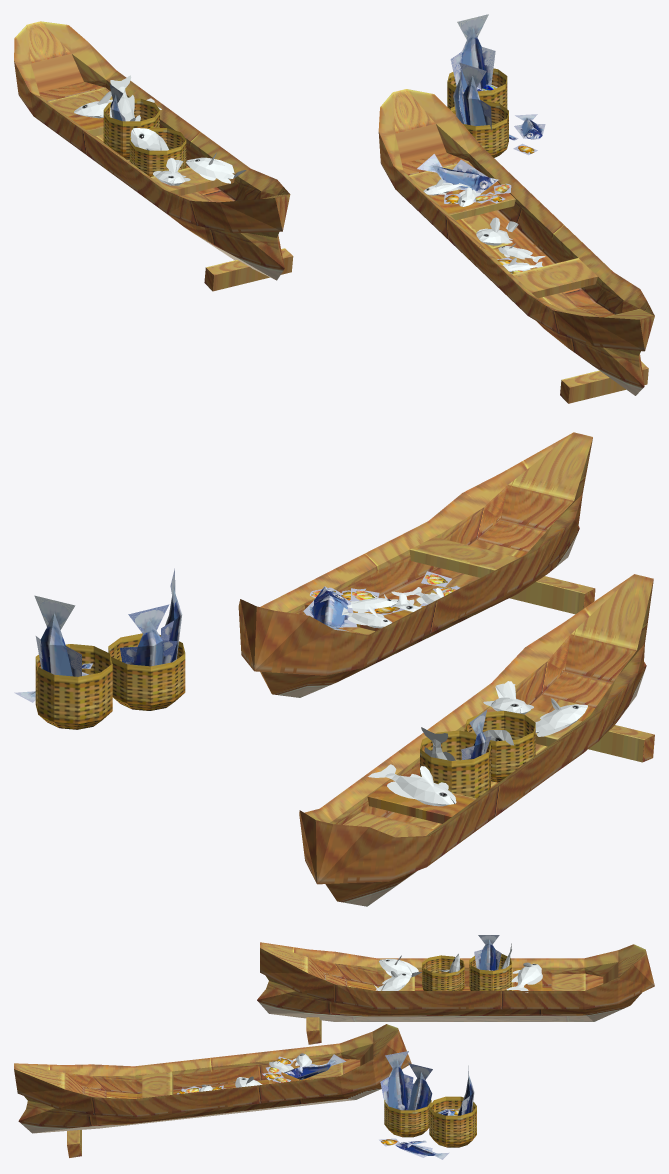
Rendered from riccoshipfish_bake.dae.
3 views of the same model, one above another, from view 1: azimuth 30°, elevation 25°; view 2: azimuth 150°, elevation 25°; view 3: azimuth 270°, elevation 25° (orthographic). The views are drawn at different scales.
Visible parts, largest first — view 1: m0, m0_VC; view 2: m0, m0_VC; view 3: m0, m0_VC.
Boxes of the visible parts, x1,y1,x2,y2 form: m0: (14, 18, 654, 403); m0_VC: (109, 14, 545, 273); m0: (20, 432, 654, 906); m0_VC: (14, 568, 491, 759); m0: (14, 935, 654, 1158); m0_VC: (177, 935, 501, 1159).
Size of the model in its own units: 1227 by 453 by 2109.
Materials: 2 (2 with a texture image).
